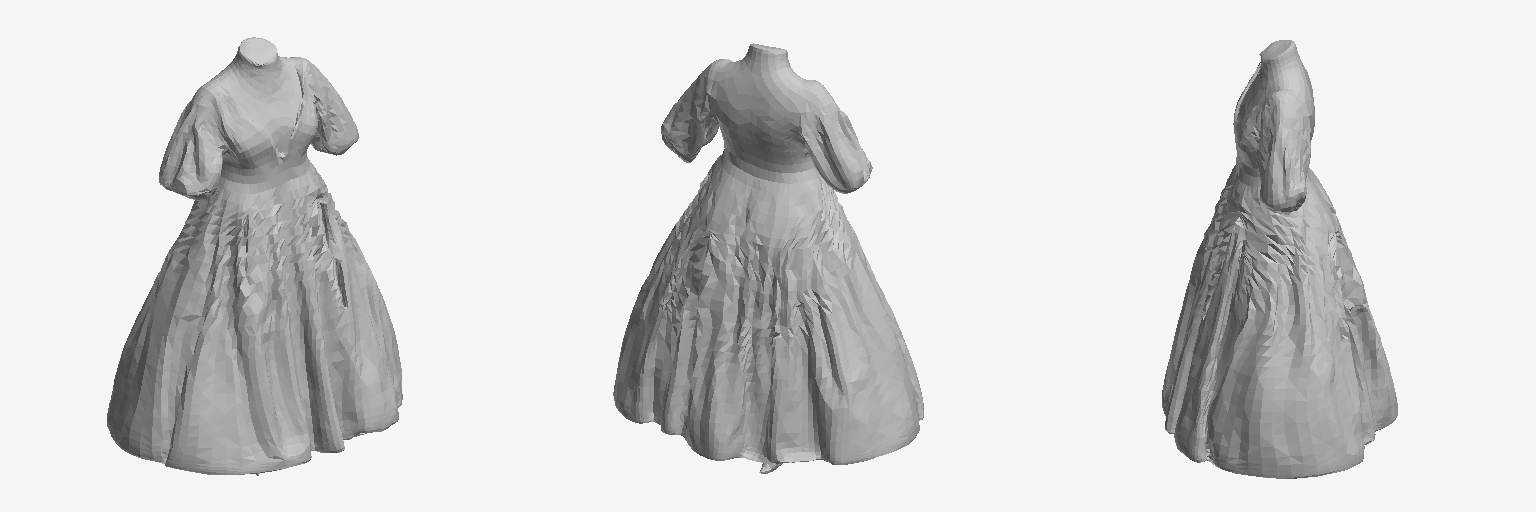
File: crim.obj.obj
3 views of the same model, side by side, from view 1: azimuth 30°, elevation 25°; view 2: azimuth 150°, elevation 25°; view 3: azimuth 270°, elevation 25° (orthographic).
Parts seen in each view (by area): view 1: Crimson_Elegance_[number redacted]_texture; view 2: Crimson_Elegance_[number redacted]_texture; view 3: Crimson_Elegance_[number redacted]_texture.
Boxes of the visible parts, box(x1,y1,x2,y2) form: Crimson_Elegance_[number redacted]_texture: box(107, 37, 402, 475); Crimson_Elegance_[number redacted]_texture: box(613, 43, 923, 473); Crimson_Elegance_[number redacted]_texture: box(1162, 40, 1397, 478).
Bounding box in the file's own units: 1.35 × 1.99 × 1.01.